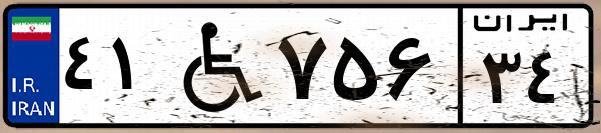1: (110, 28, 158, 98)
3: (475, 38, 525, 113)
4: (57, 26, 110, 100), (525, 38, 570, 115)
5: (330, 28, 385, 110)
6: (385, 28, 445, 110)
7: (270, 28, 330, 110)
ژ (معلولین و جانبازان): (158, 12, 270, 120)
